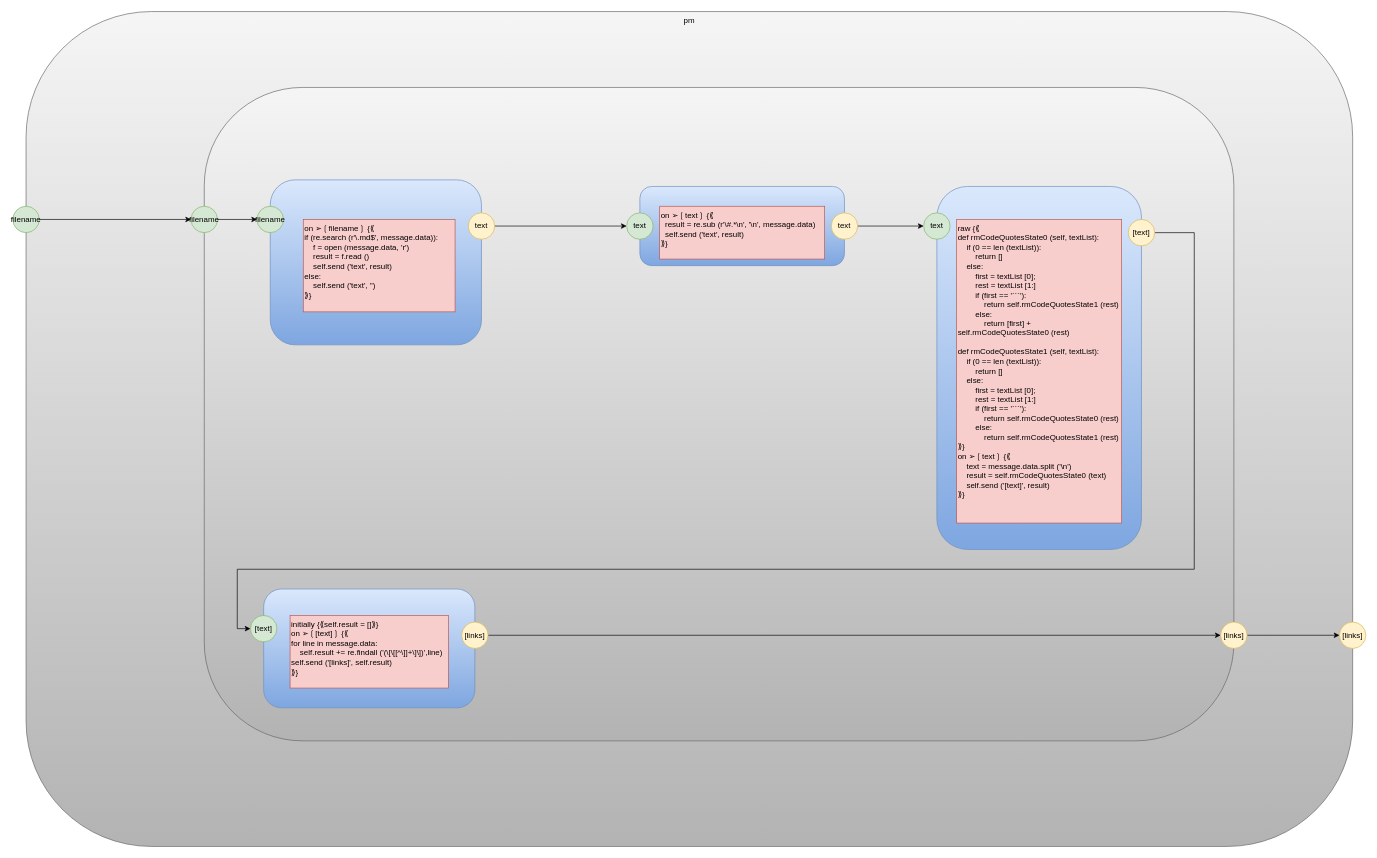
Image size: 1377x858. Some labels were removed from this diagram. Each missing label, with the box of its shape:
Link Scraper: (263, 588, 475, 708)
MD File Reader: (270, 179, 481, 345)
Omit Code Quotes: (936, 186, 1141, 549)
Omit Comments: (639, 186, 844, 266)
perfilelinkscraper: (204, 87, 1234, 741)
